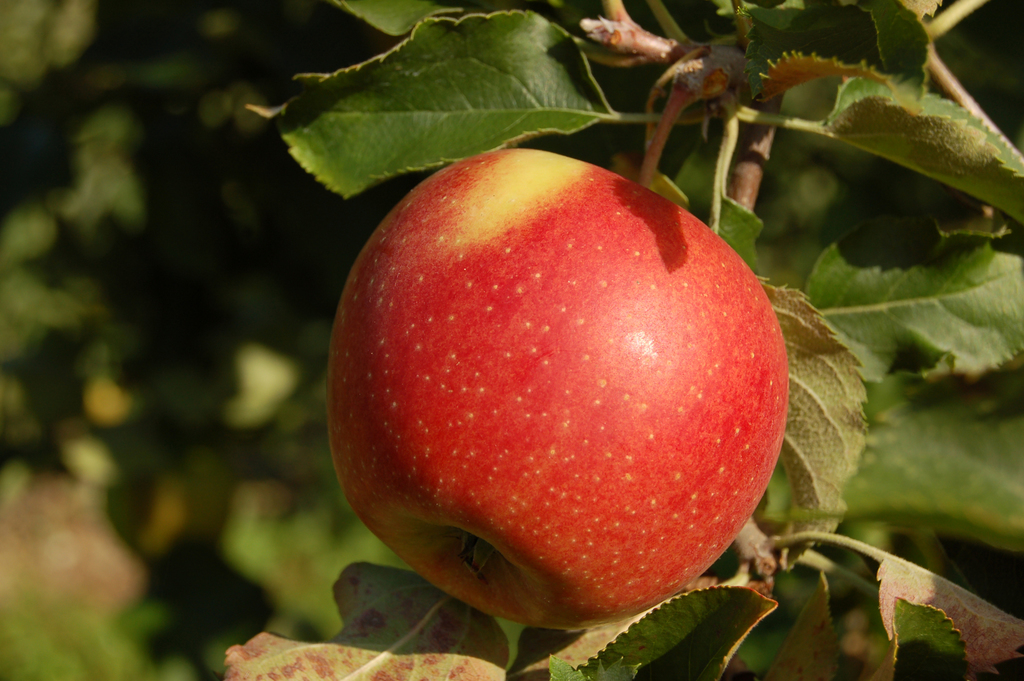Apple: (308, 126, 807, 641)
